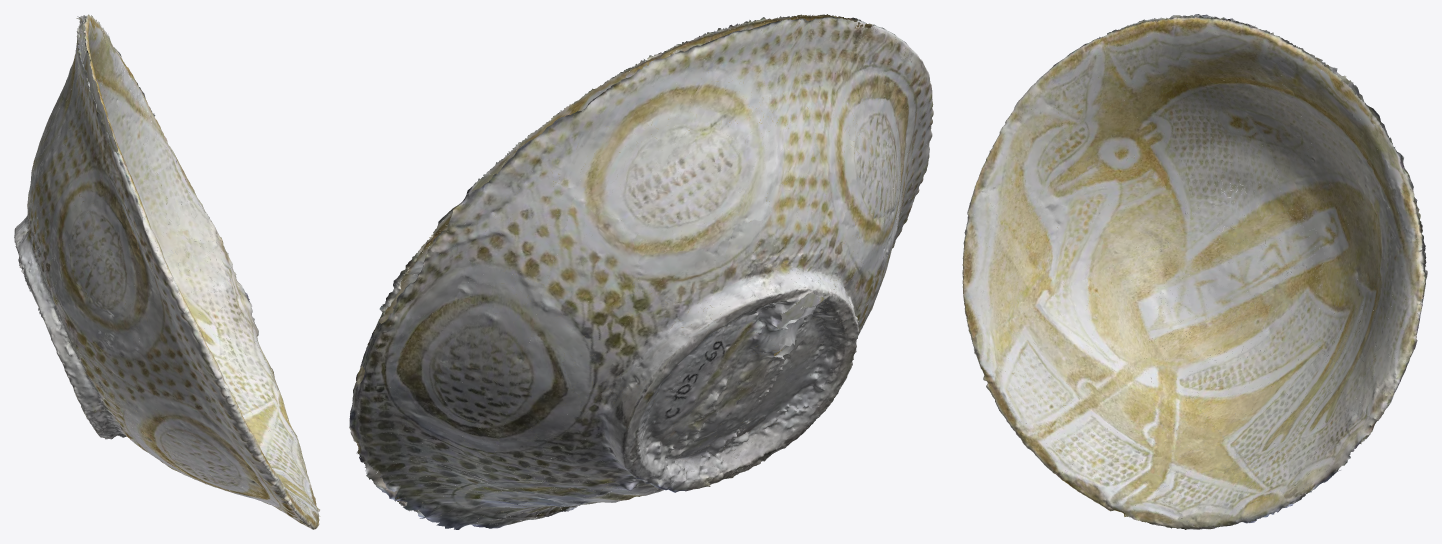
File: bowl.glb
3 renders of one model, left to right at view 1: azimuth 30°, elevation 25°; view 2: azimuth 150°, elevation 25°; view 3: azimuth 270°, elevation 25°, orthographic. The views are drawn at different scales.
Parts seen in each view (by area): view 1: Object_2; view 2: Object_2; view 3: Object_2.
Boxes of the visible parts, left/top/right/bottom form: Object_2: left=14, top=14, right=320, bottom=529; Object_2: left=349, top=14, right=933, bottom=529; Object_2: left=962, top=14, right=1427, bottom=529.
Bounding box in the file's own units: 20.92 × 31.16 × 30.83.
Materials: 1 (1 with a texture image).
